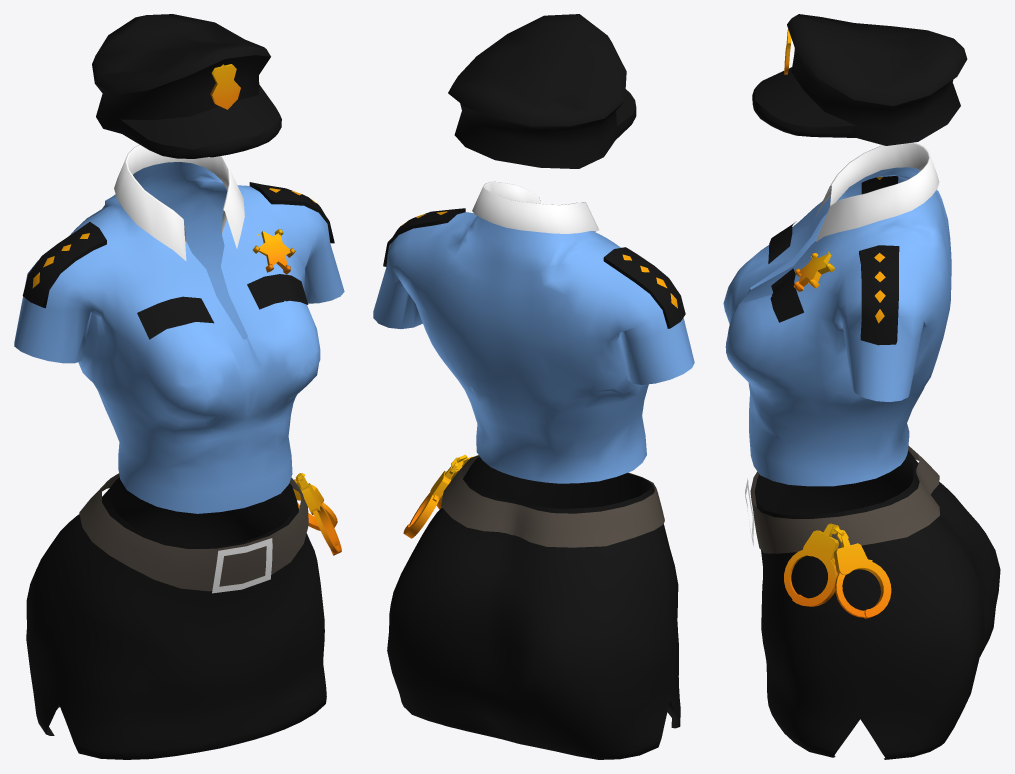
File: weigher_skin_11.fbx
The picture shows the model from 3 angles, left to right: view 1: azimuth 30°, elevation 25°; view 2: azimuth 150°, elevation 25°; view 3: azimuth 270°, elevation 25°; orthographic projection. The views are drawn at different scales.
Visible parts, largest first — view 1: dress_10, hat_4; view 2: dress_10, hat_4; view 3: dress_10, hat_4.
Boxes of the visible parts, bbox=[...] form: dress_10: bbox=[14, 144, 344, 759]; hat_4: bbox=[92, 14, 281, 158]; dress_10: bbox=[373, 181, 694, 759]; hat_4: bbox=[448, 14, 636, 168]; dress_10: bbox=[723, 142, 1000, 759]; hat_4: bbox=[752, 14, 967, 145].
Bounding box in the file's own units: 0.4684 × 0.9586 × 0.3532.
